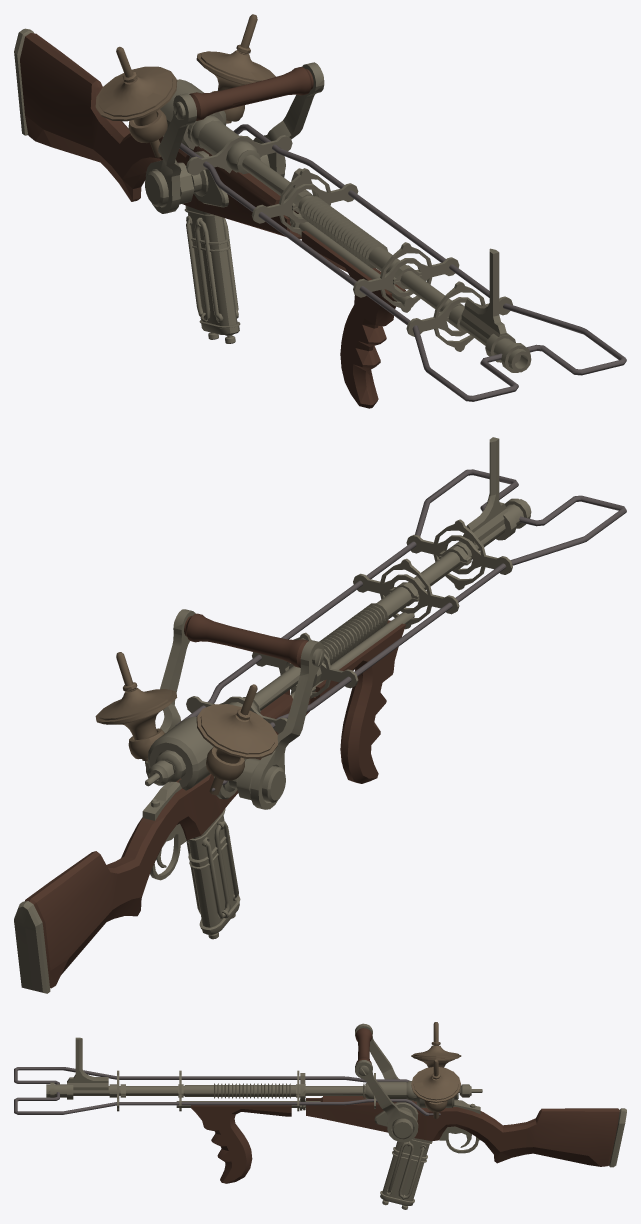
File: Seven_Weapon.glb
3 renders of one model, top to bottom at view 1: azimuth 30°, elevation 25°; view 2: azimuth 150°, elevation 25°; view 3: azimuth 270°, elevation 25°, orthographic. The views are drawn at different scales.
Parts seen in each view (by area): view 1: models\heroes_staging\gigawatt_prisoner\gigawatt_prisoner.vm; view 2: models\heroes_staging\gigawatt_prisoner\gigawatt_prisoner.vm; view 3: models\heroes_staging\gigawatt_prisoner\gigawatt_prisoner.vm.
Part boxes in pixels (bbox=[...]): models\heroes_staging\gigawatt_prisoner\gigawatt_prisoner.vm: bbox=[14, 14, 626, 408]; models\heroes_staging\gigawatt_prisoner\gigawatt_prisoner.vm: bbox=[14, 437, 626, 993]; models\heroes_staging\gigawatt_prisoner\gigawatt_prisoner.vm: bbox=[14, 1022, 626, 1209].
Bounding box in the file's own units: 0.3774 × 0.6175 × 2.01.
1 material, 1 textured.
